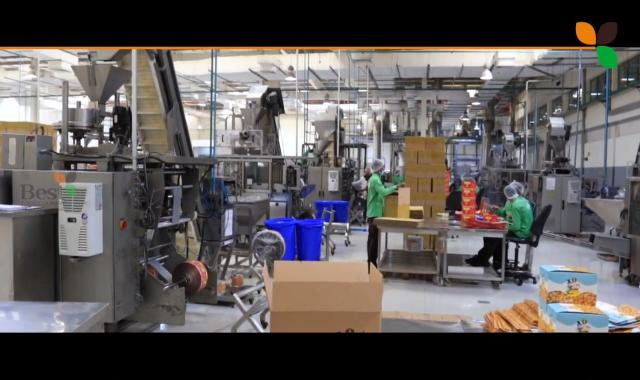hairnet: (504, 180, 521, 200), (368, 159, 385, 172)
